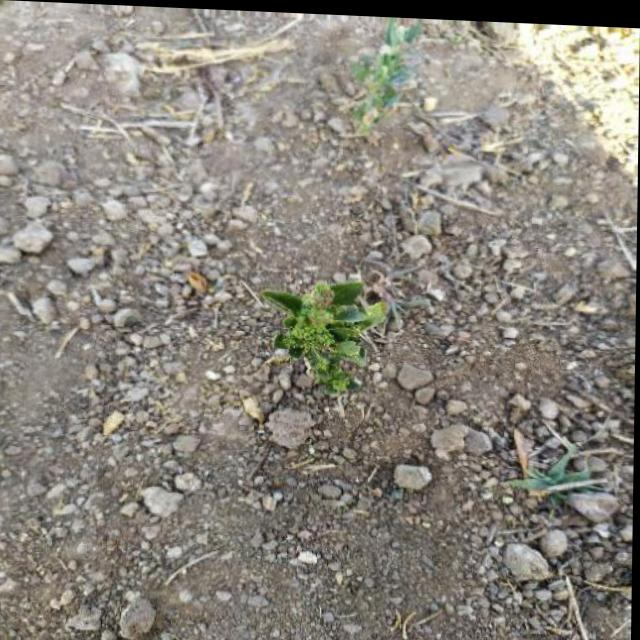weed: (266, 275, 377, 388), (346, 13, 430, 139)
